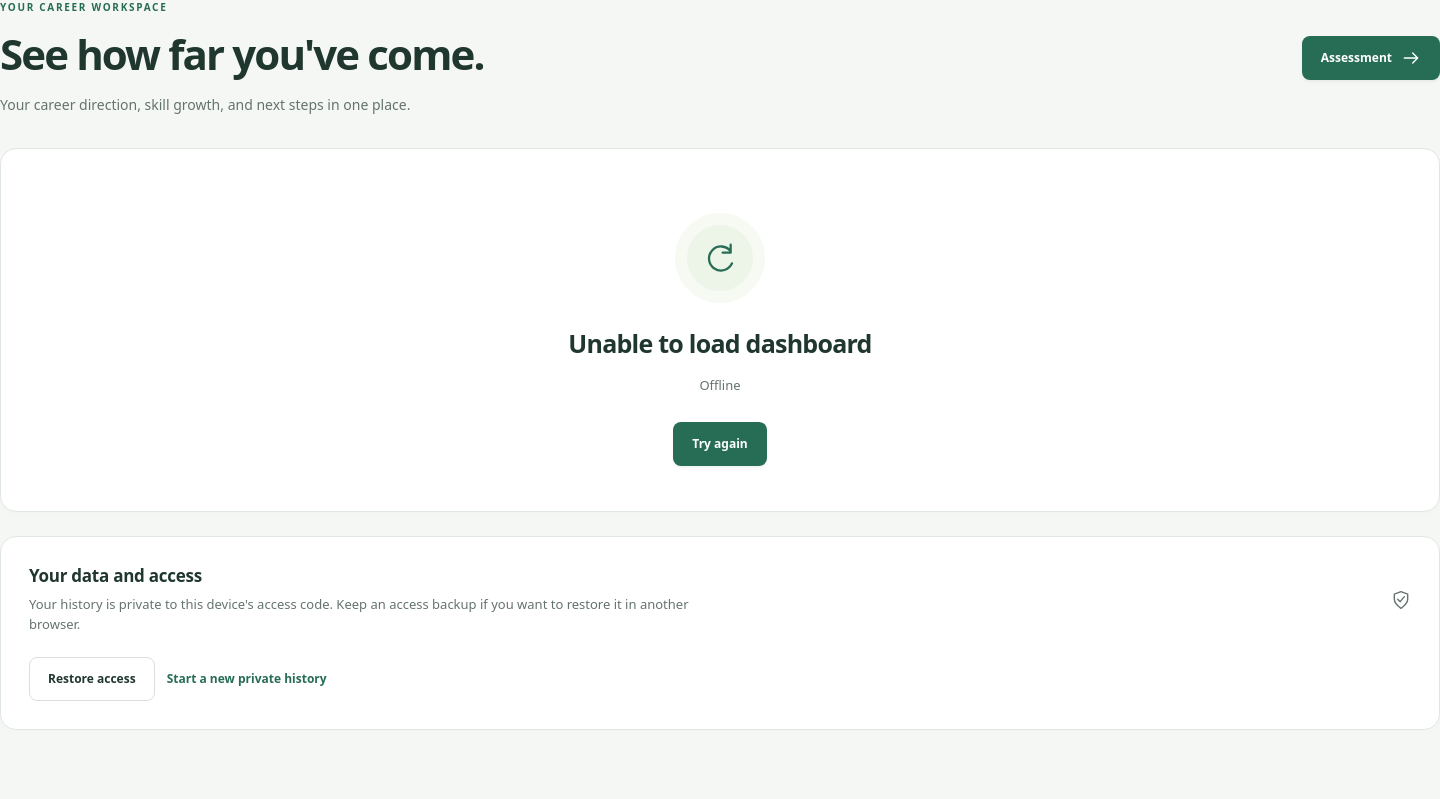
it: dashboard error is retryable and empty state does not invent progress
Expected: the message reads "Offline", [699, 376, 741, 394]
Click the button "Try again". click: (720, 444)
box: [673, 422, 767, 466]
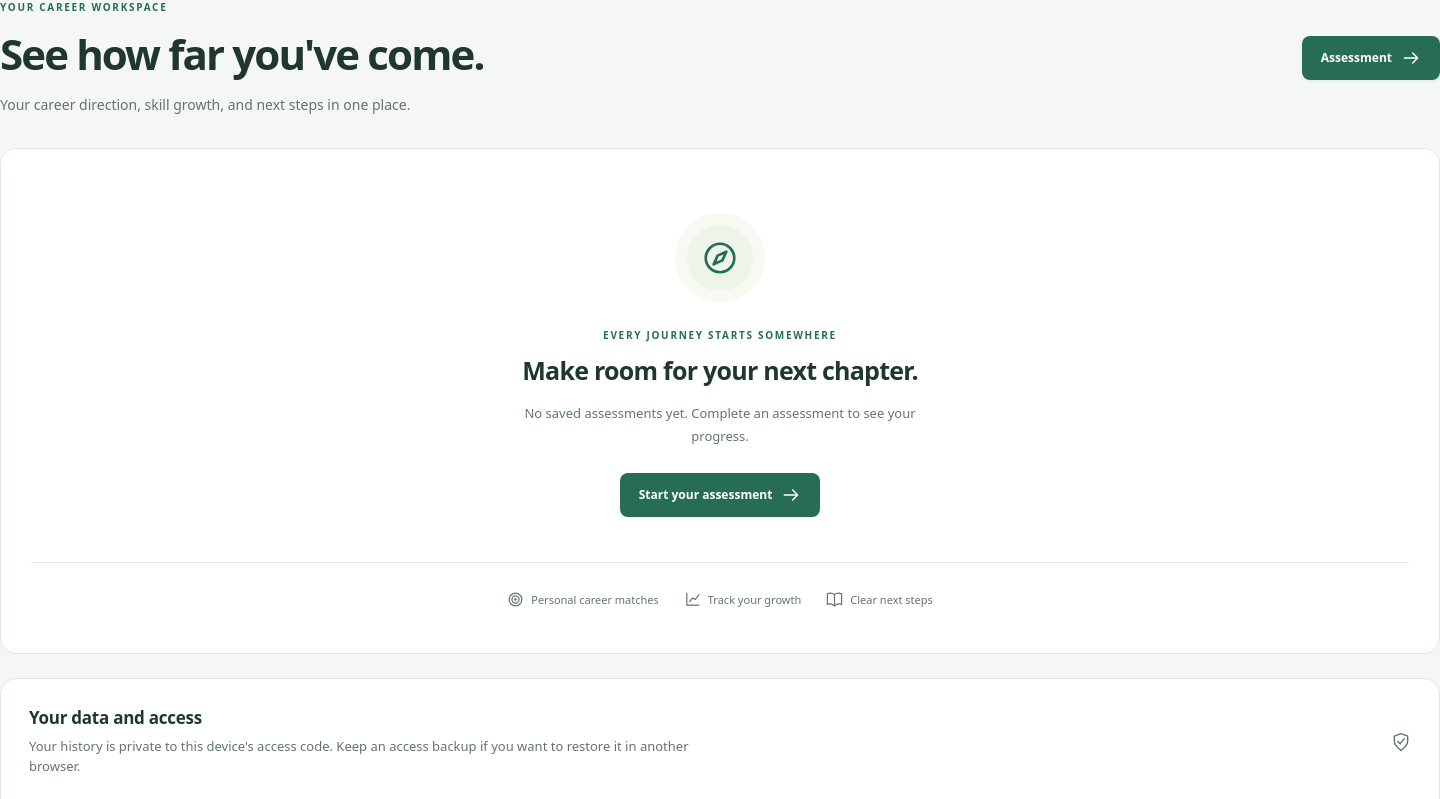
Now the text "No saved assessments yet" is shown, box [524, 404, 916, 445]
